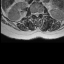CCS_normal: (36, 9, 38, 19)
LFS_stenosis: (40, 9, 41, 16)
LLS_normal: (38, 10, 40, 17)
RFS_normal: (32, 10, 34, 16)
RLS_normal: (34, 10, 36, 17)
